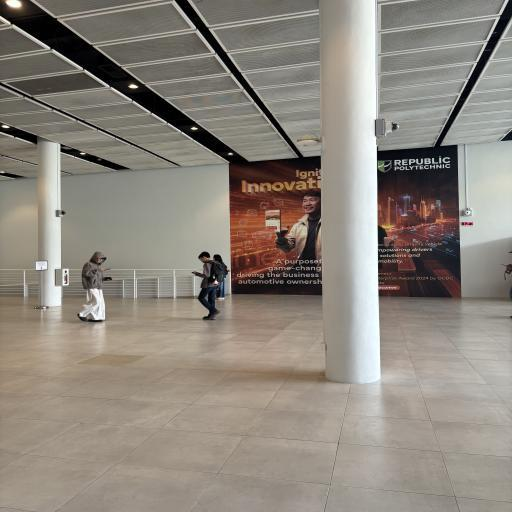person_left: (188, 250, 224, 320)
person_right: (74, 237, 117, 333)
